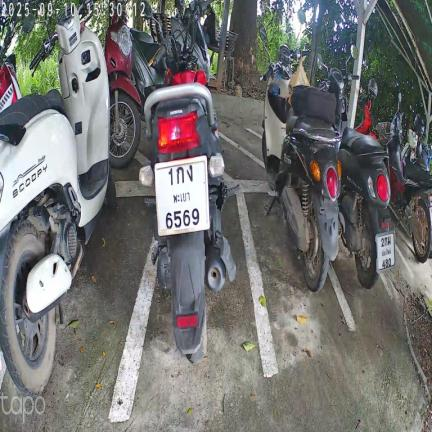1: (166, 166, 174, 186)
5: (172, 208, 183, 229)
6: (182, 207, 192, 228), (164, 210, 174, 230)
9: (192, 205, 202, 226)
A01: (176, 166, 185, 185)
A07: (185, 165, 195, 182)
PTE: (170, 189, 192, 206)
